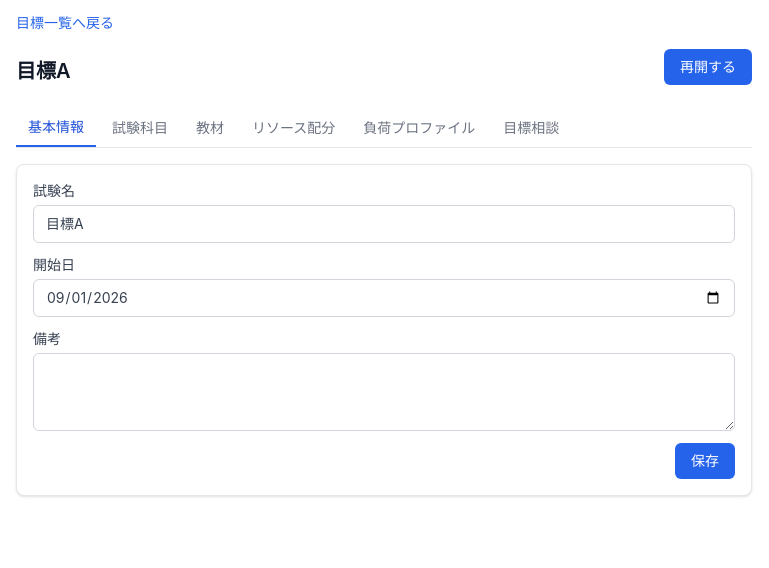
Test: GoalDetailPage の状態遷移 › shows the warnings the server returns when a goal is resumed
Click the button "再開する" at {"x": 708, "y": 67}, box x1=664 y1=49 x2=752 y2=85
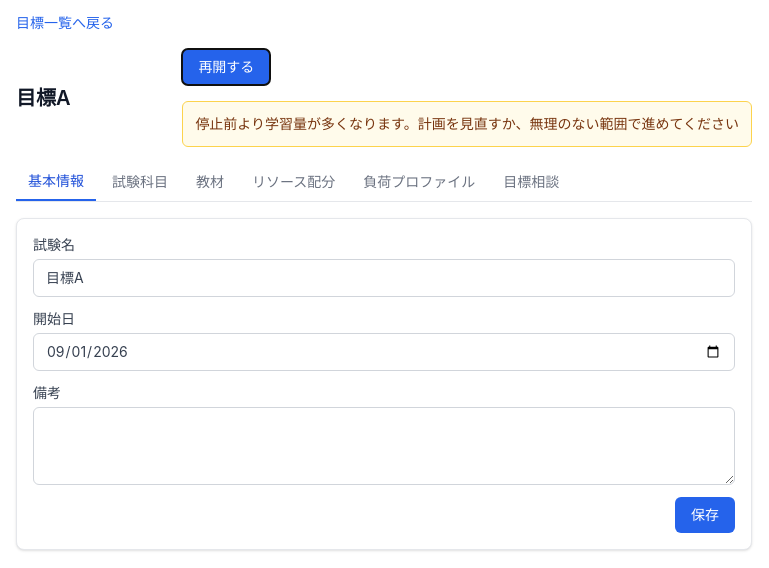
Check: the list item "停止前より学習量が多くなります。計画を見直すか、無理のない範囲で進めてください" is shown, box x1=195 y1=114 x2=739 y2=134
